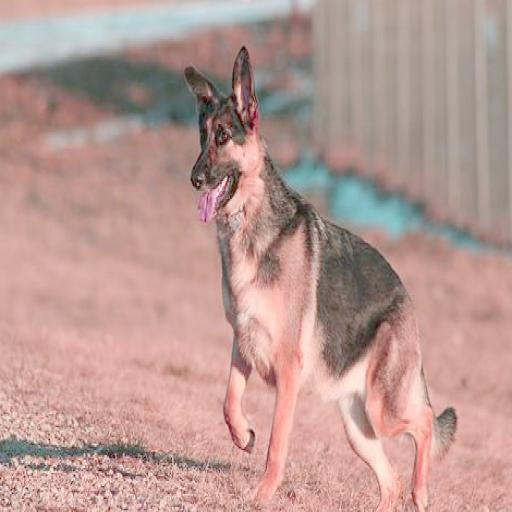dog_face: (179, 62, 255, 227)
